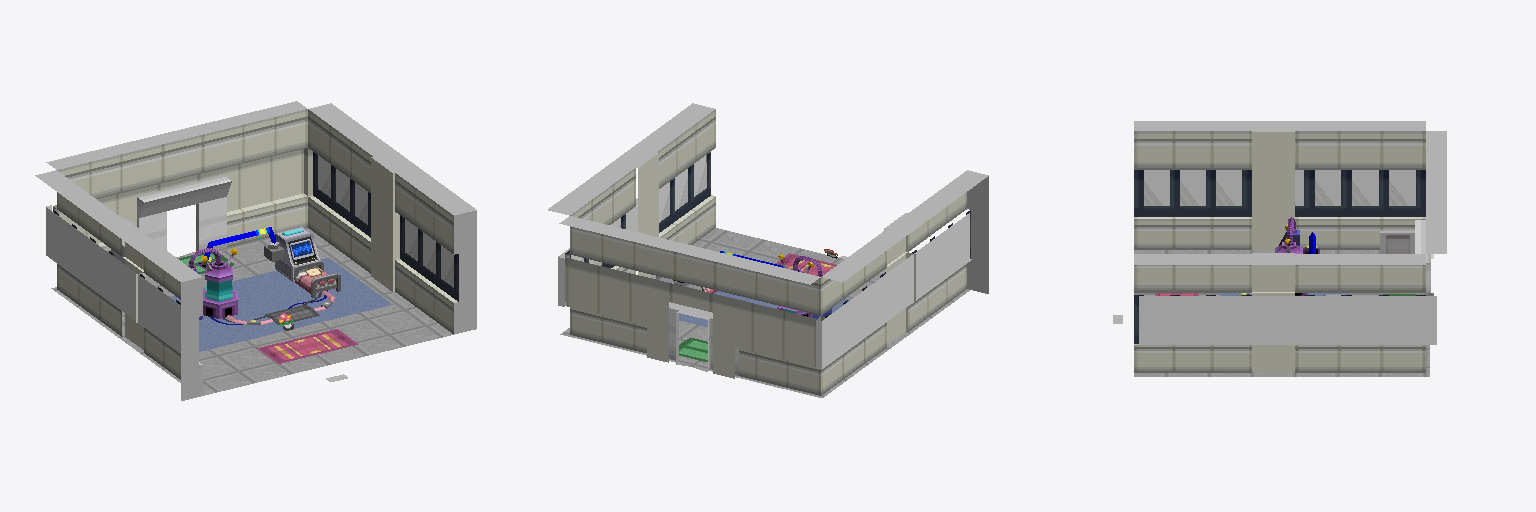
The picture shows the model from 3 angles: view 1: azimuth 30°, elevation 25°; view 2: azimuth 150°, elevation 25°; view 3: azimuth 270°, elevation 25°; orthographic projection.
Parts seen in each view (by area): view 1: polygon12, polygon11, polygon13, polygon8, polygon14, polygon10, polygon25, polygon1, polygon20, polygon6; view 2: polygon12, polygon11, polygon8, polygon13, polygon10, polygon2, polygon14; view 3: polygon12, polygon8, polygon11, polygon13, polygon10.
Part boxes in pixels (x1,y1,x2,y2): polygon12: (53,109,458,379); polygon11: (35,101,476,400); polygon13: (51,228,453,395); polygon8: (46,155,453,353); polygon14: (170,258,392,351); polygon10: (137,175,231,249); polygon25: (188,248,237,318); polygon1: (256,329,358,363); polygon20: (275,226,320,281); polygon6: (227,268,334,324); polygon12: (565,109,971,395); polygon11: (548,103,988,362); polygon8: (558,155,969,369); polygon13: (560,228,969,397); polygon10: (669,302,738,375); polygon2: (679,338,707,361); polygon14: (679,291,850,326); polygon12: (1134,131,1433,372); polygon8: (1139,170,1436,344); polygon11: (1134,121,1446,264); polygon13: (1134,250,1429,376); polygon10: (1386,220,1430,292).
Size of the model in its own units: 3.99 by 1.63 by 3.91.
Materials: 30 (28 with a texture image).